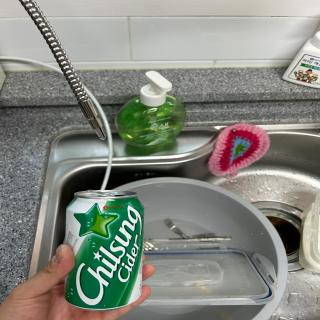cocacola: (62, 188, 146, 311)
